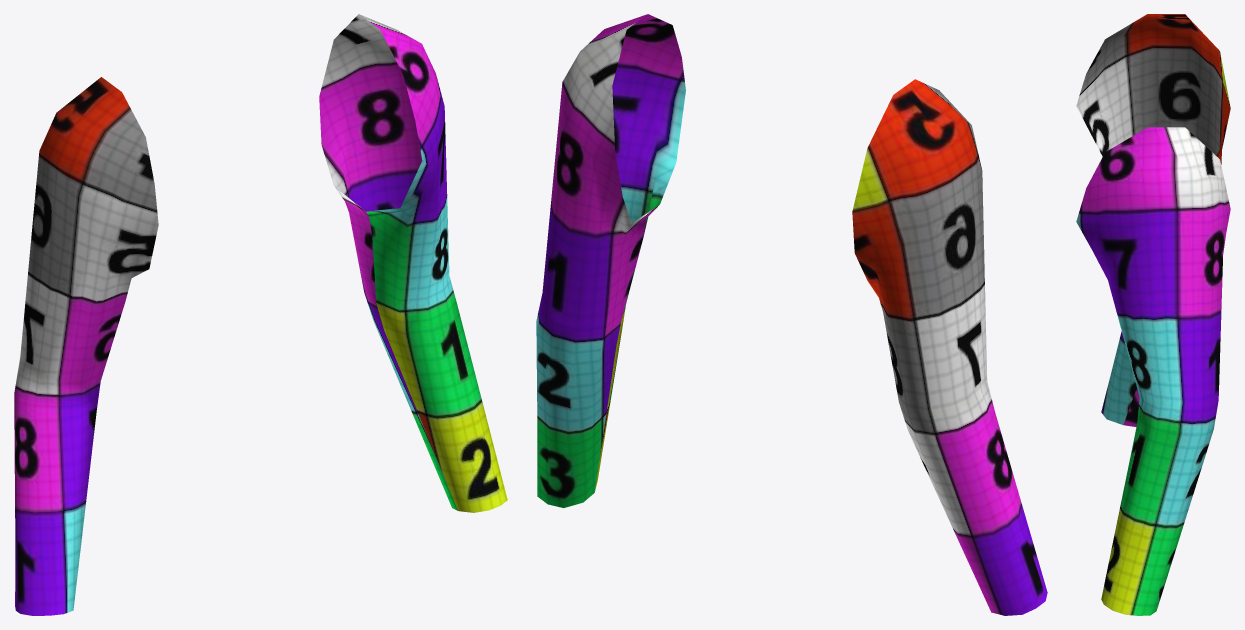
The model's file is 1_long_sleeve.glb.
The picture shows the model from 3 angles, left to right: view 1: azimuth 30°, elevation 25°; view 2: azimuth 150°, elevation 25°; view 3: azimuth 270°, elevation 25°; orthographic projection. The views are drawn at different scales.
Parts seen in each view (by area): view 1: Sleeves.002_blouse_Sleeve.001_butterfly_hoodie_Cube.001_Cube; view 2: Sleeves.002_blouse_Sleeve.001_butterfly_hoodie_Cube.001_Cube; view 3: Sleeves.002_blouse_Sleeve.001_butterfly_hoodie_Cube.001_Cube.
Part boxes in pixels (bbox=[...]): Sleeves.002_blouse_Sleeve.001_butterfly_hoodie_Cube.001_Cube: bbox=[14, 14, 507, 615]; Sleeves.002_blouse_Sleeve.001_butterfly_hoodie_Cube.001_Cube: bbox=[536, 14, 1047, 615]; Sleeves.002_blouse_Sleeve.001_butterfly_hoodie_Cube.001_Cube: bbox=[1076, 14, 1230, 615].
Size of the model in its own units: 0.5146 by 0.4994 by 0.1573.
1 material, 1 textured.
